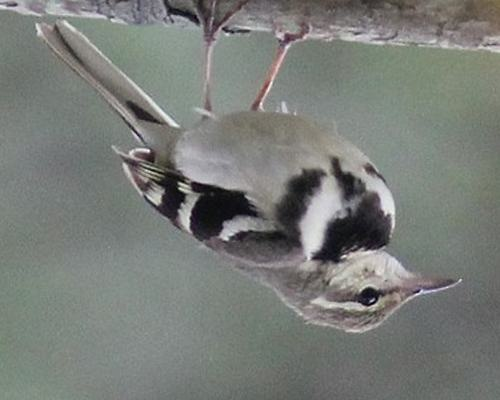wagtail: (91, 25, 464, 340)
